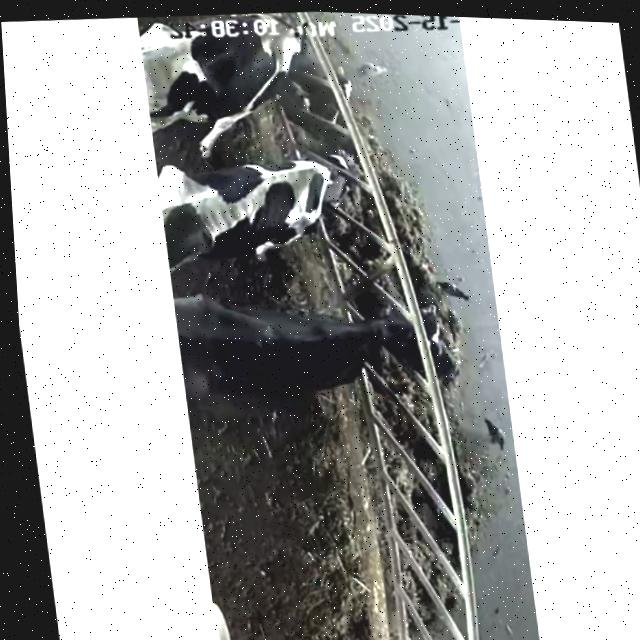eat: (186, 7, 383, 133), (257, 123, 428, 249), (286, 293, 484, 400)
